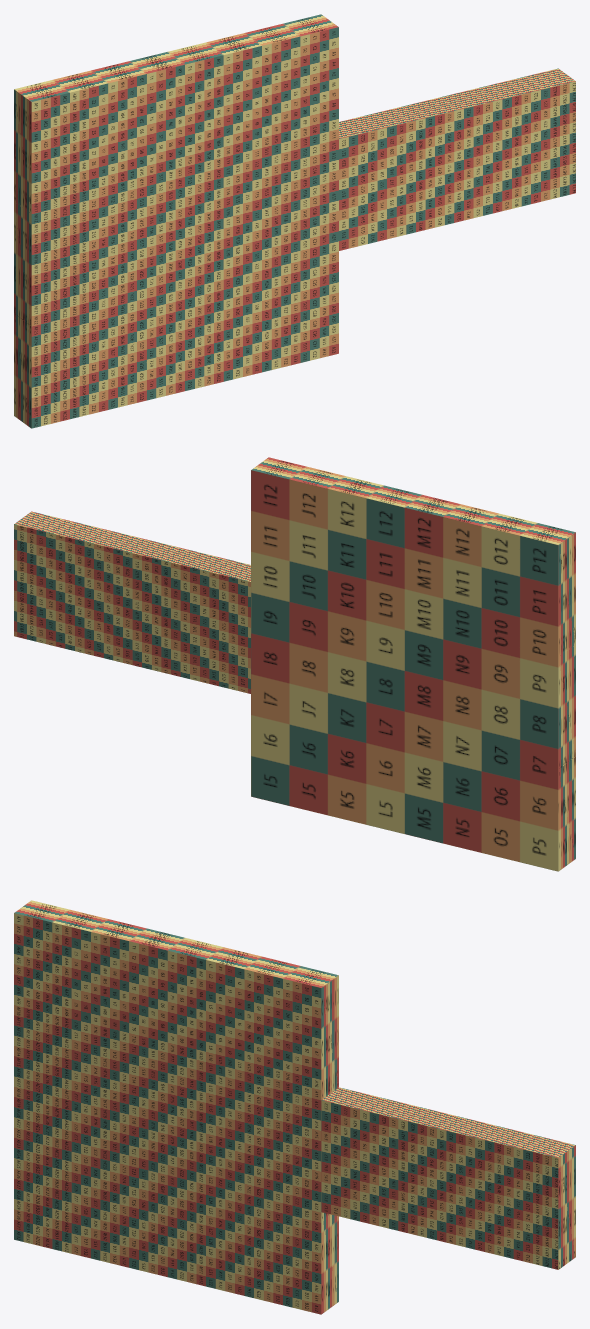
The model's file is map_ground.obj.
3 renders of one model, top to bottom at view 1: azimuth 30°, elevation 25°; view 2: azimuth 150°, elevation 25°; view 3: azimuth 330°, elevation 25°, orthographic.
Parts seen in each view (by area): view 1: Cube_Cube.001; view 2: Cube_Cube.001; view 3: Cube_Cube.001.
Boxes of the visible parts, left/top/right/bottom form: Cube_Cube.001: left=14, top=14, right=575, bottom=428; Cube_Cube.001: left=14, top=457, right=575, bottom=871; Cube_Cube.001: left=14, top=900, right=575, bottom=1314.
Size of the model in its own units: 35.88 by 20.57 by 2.
Materials: 1 (1 with a texture image).
